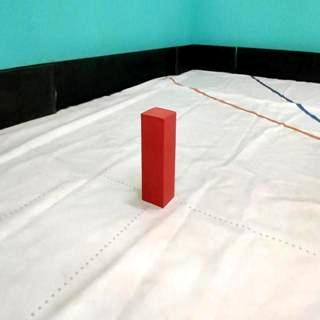redbox: (141, 106, 176, 209)
